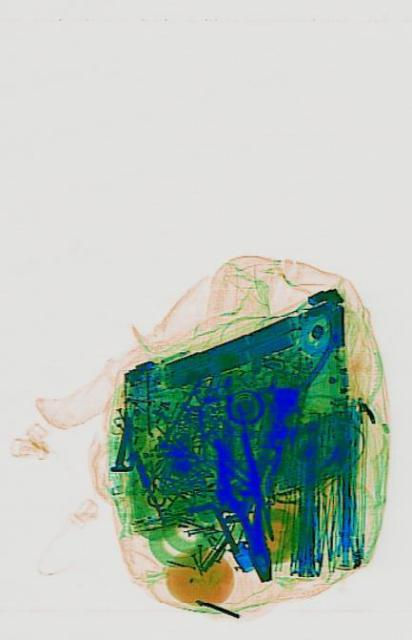Pliers: (211, 422, 281, 588)
